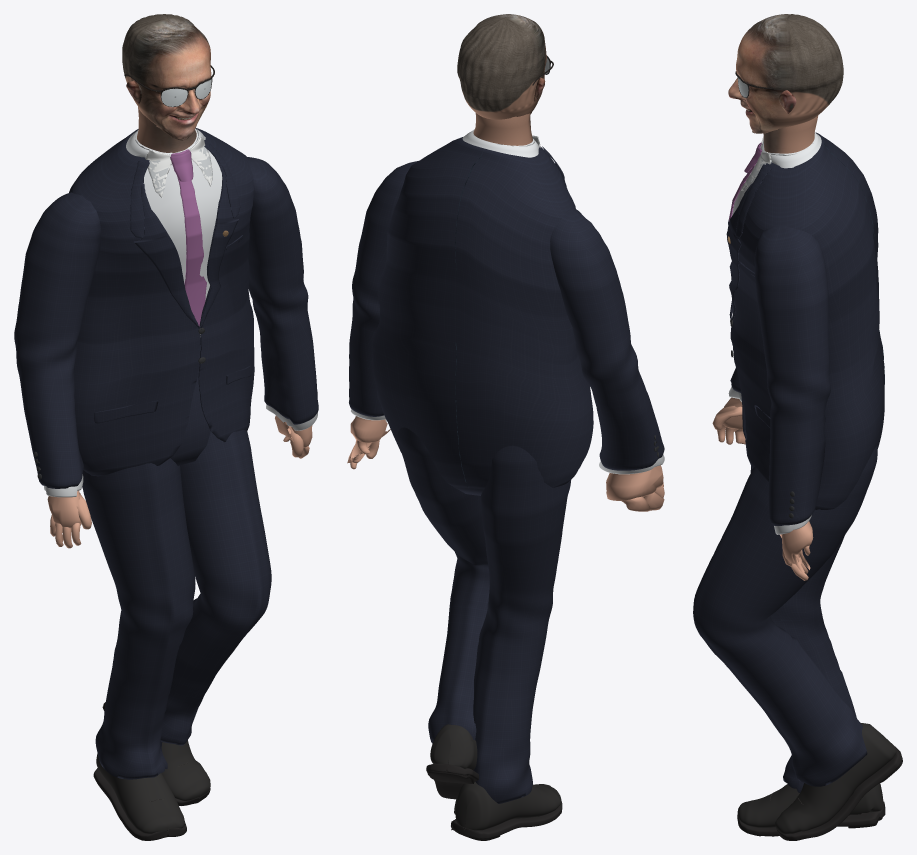
Rendered from figure.gltf.
3 views of the same model, side by side, from view 1: azimuth 30°, elevation 25°; view 2: azimuth 150°, elevation 25°; view 3: azimuth 270°, elevation 25° (orthographic). The views are drawn at different scales.
Parts seen in each view (by area): view 1: Indiana Jones; view 2: Indiana Jones; view 3: Indiana Jones.
Part boxes in pixels (x1,y1,x2,y2): Indiana Jones: [14, 14, 318, 840]; Indiana Jones: [347, 14, 664, 840]; Indiana Jones: [693, 14, 902, 840].
Bounding box in the file's own units: 0.6723 × 1.74 × 0.4058.
23 materials, 8 textured.
